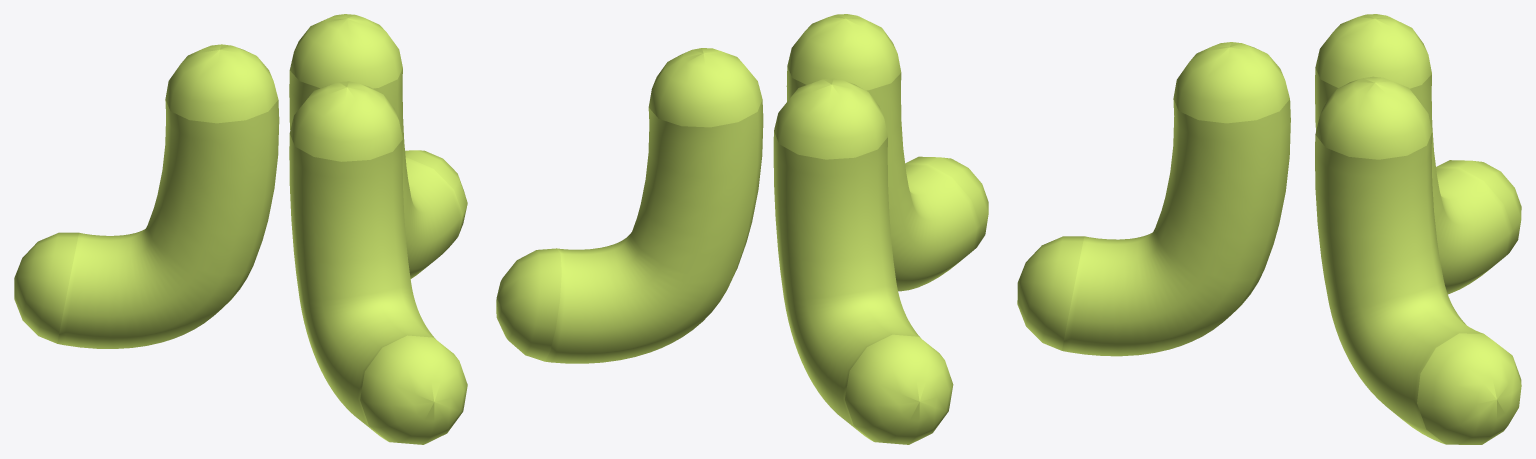
The model's file is Legs2.glb.
3 views of the same model, side by side, from view 1: azimuth 30°, elevation 25°; view 2: azimuth 150°, elevation 25°; view 3: azimuth 270°, elevation 25° (orthographic). The views are drawn at different scales.
Visible parts, largest first — view 1: Legs2; view 2: Legs2; view 3: Legs2.
Boxes of the visible parts, bbox=[...] form: Legs2: bbox=[14, 14, 467, 444]; Legs2: bbox=[496, 14, 988, 444]; Legs2: bbox=[1017, 14, 1521, 444].
Size of the model in its own units: 196 by 128 by 189.
